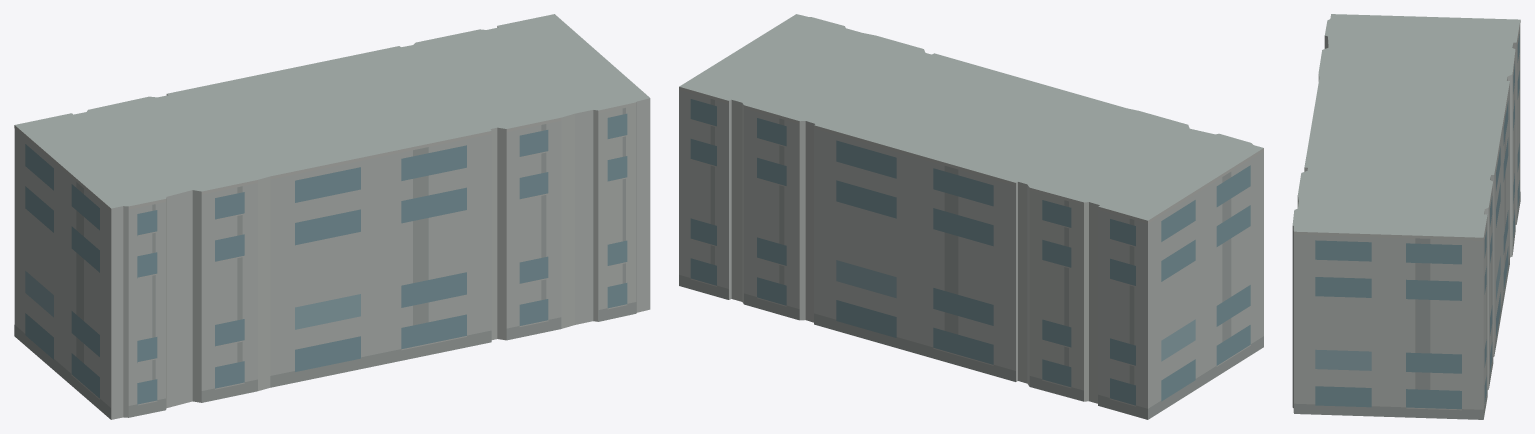
Rendered from survey-upis-32832597.glb.
3 views of the same model, side by side, from view 1: azimuth 30°, elevation 25°; view 2: azimuth 150°, elevation 25°; view 3: azimuth 270°, elevation 25° (orthographic). The views are drawn at different scales.
Parts seen in each view (by area): view 1: survey-upis-32832597.tmp; view 2: survey-upis-32832597.tmp; view 3: survey-upis-32832597.tmp.
Boxes of the visible parts, x1,y1,x2,y2 form: survey-upis-32832597.tmp: (14, 14, 650, 419); survey-upis-32832597.tmp: (679, 14, 1263, 419); survey-upis-32832597.tmp: (1292, 14, 1520, 419).
Size of the model in its own units: 42.28 by 16.05 by 18.21.
